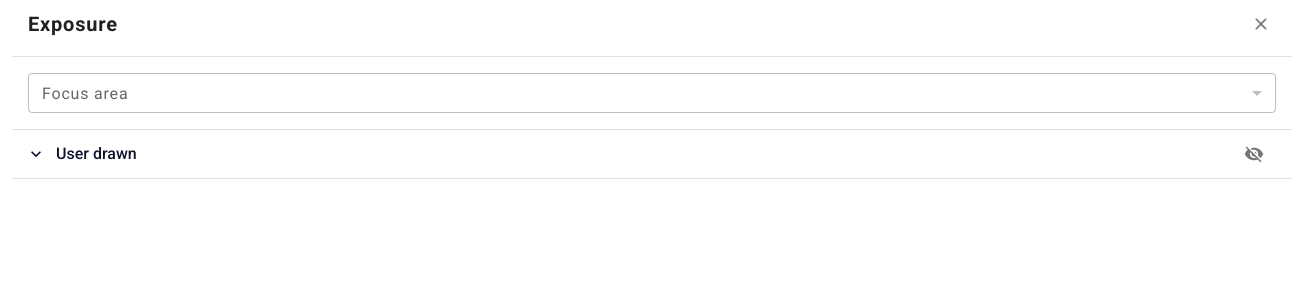
Test case: ExposureView › Send to Data Room › shows checkmark icon and hides edit/delete/send for pending layers
expect the text "User drawn" is shown: met, box [56,144,137,163]
Click the button "User drawn" at (96,154), box [12,130,1216,178]
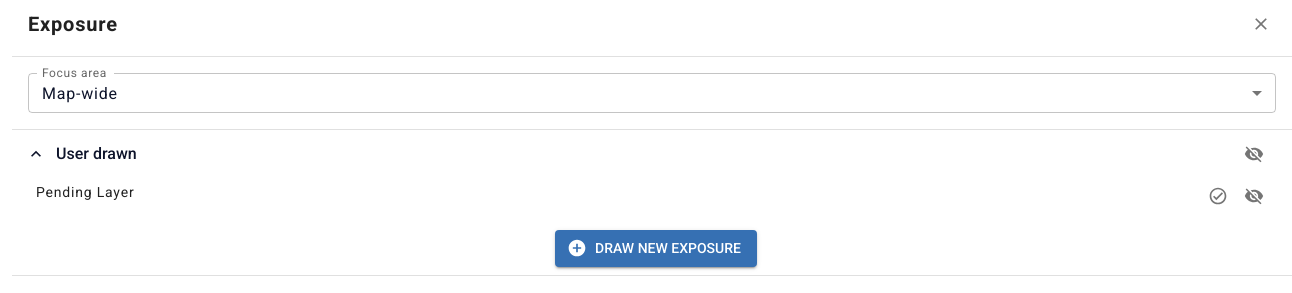
expect the text "Pending Layer" is shown: met, box [36,184,134,200]
